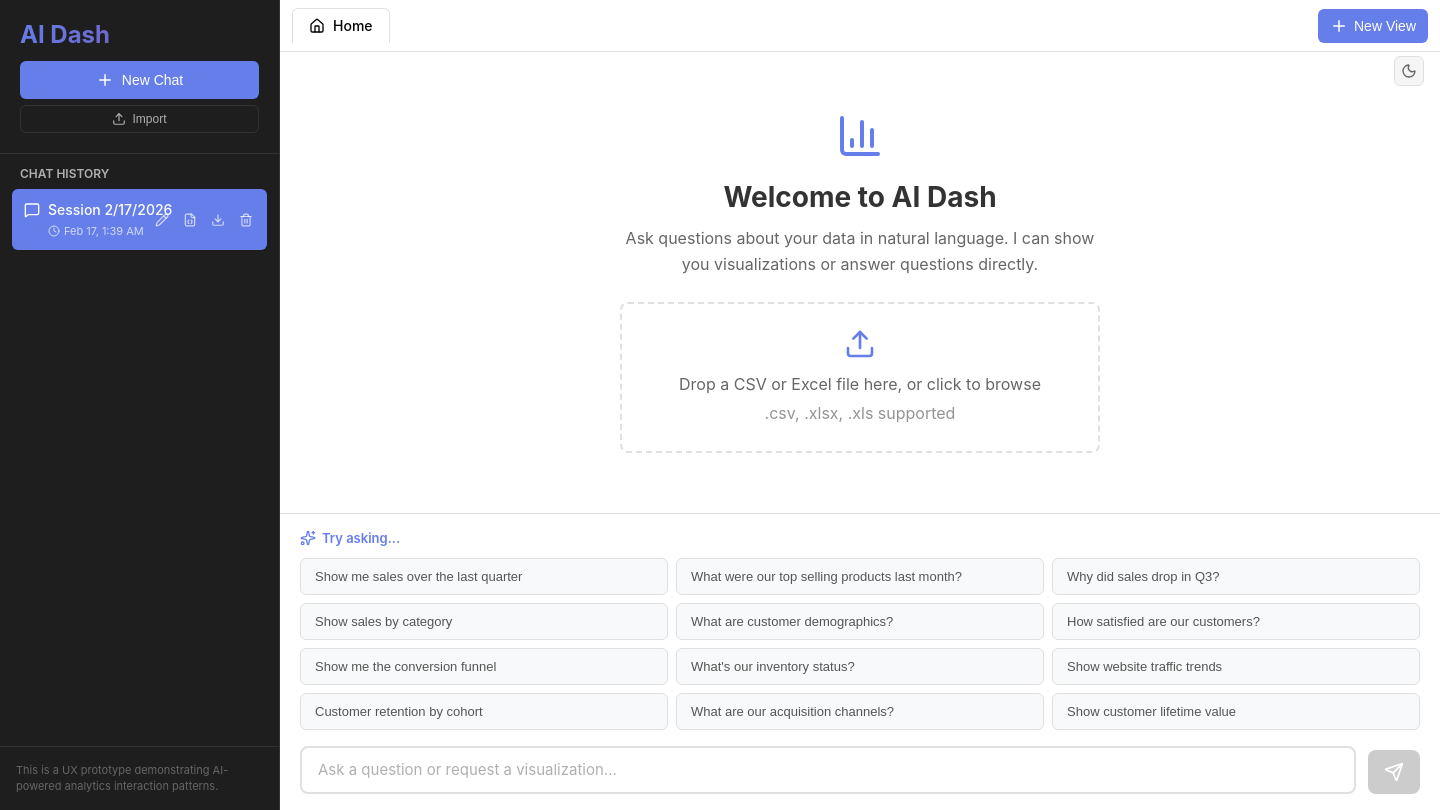
Test: full query-to-response flow
The width and height of the screenshot is (1440, 810).
# Type a query
Type "Show sales by category" into the text box named "Query input" at (828, 770), box [300, 746, 1356, 794]
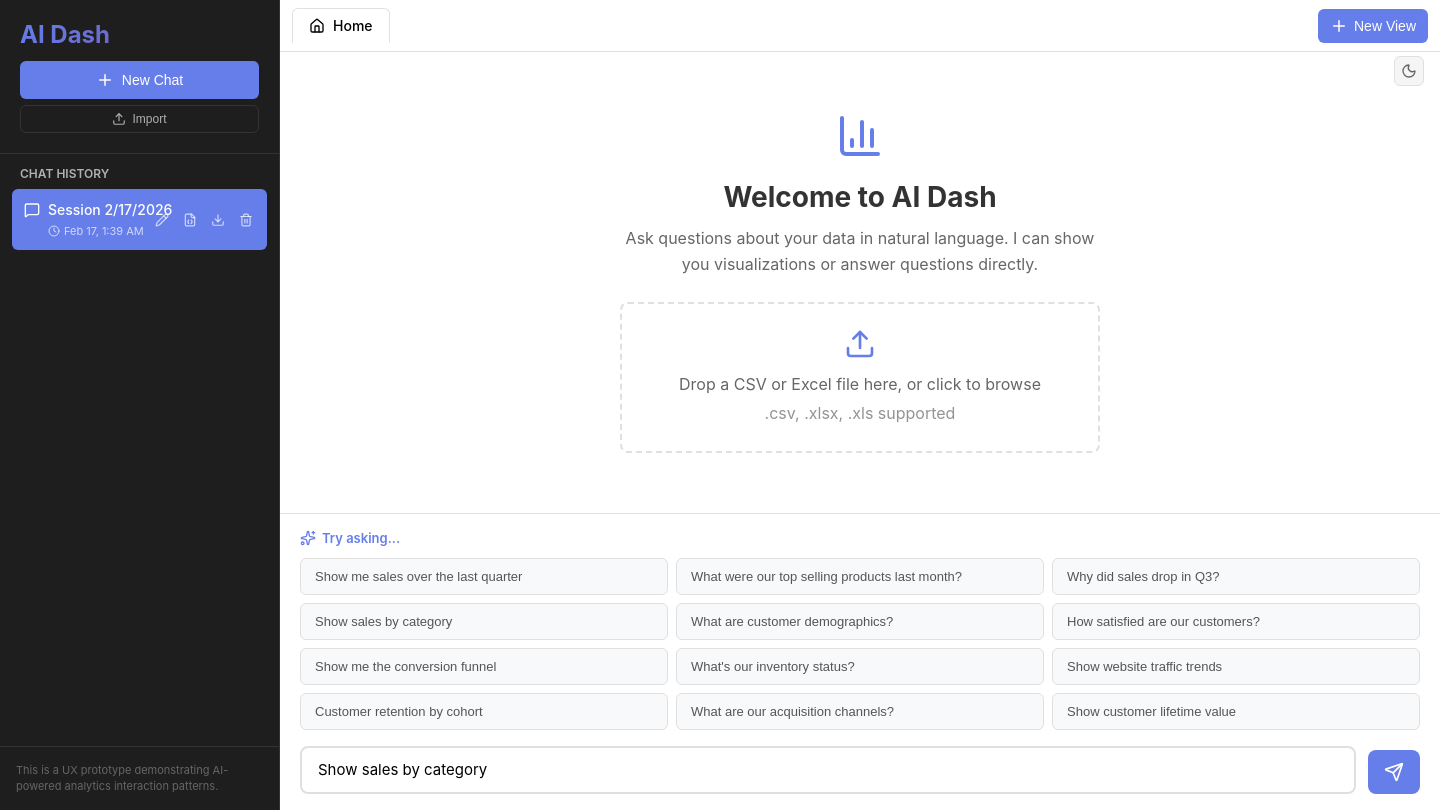
Click the button named "Send query" at (1394, 772), box [1368, 750, 1420, 794]
(page scrolled)
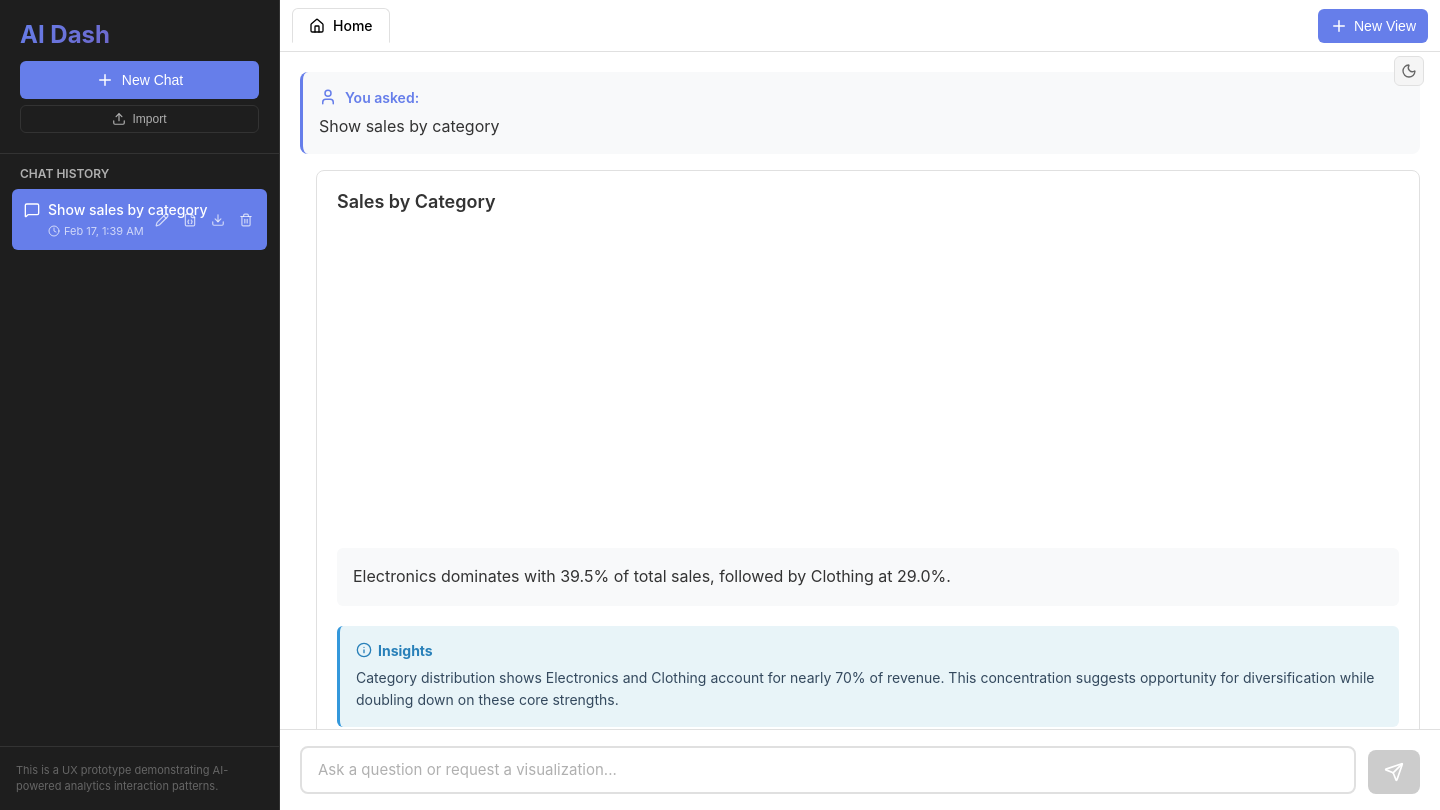
Now the text "Electronics dominates" is shown, box [353, 566, 951, 586]
Now the text "You asked:" is shown, box [345, 88, 419, 106]
